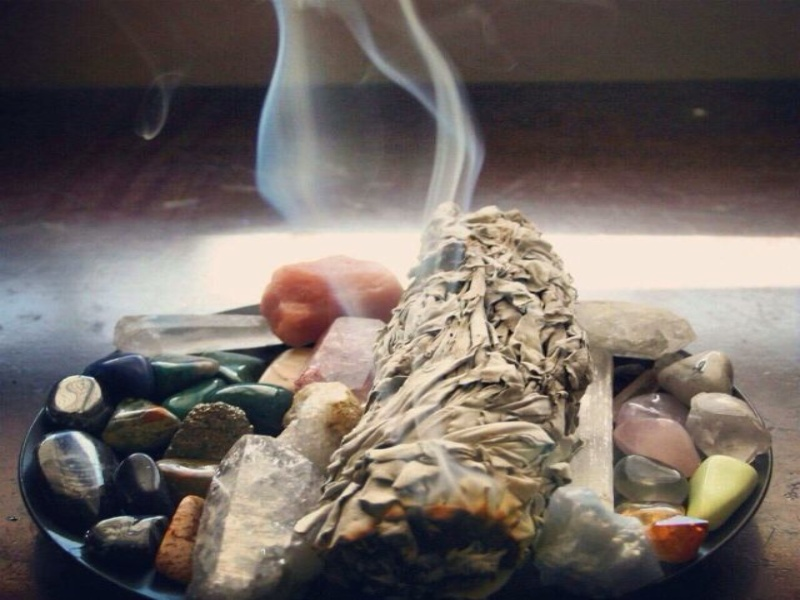smoke: (257, 1, 477, 262)
